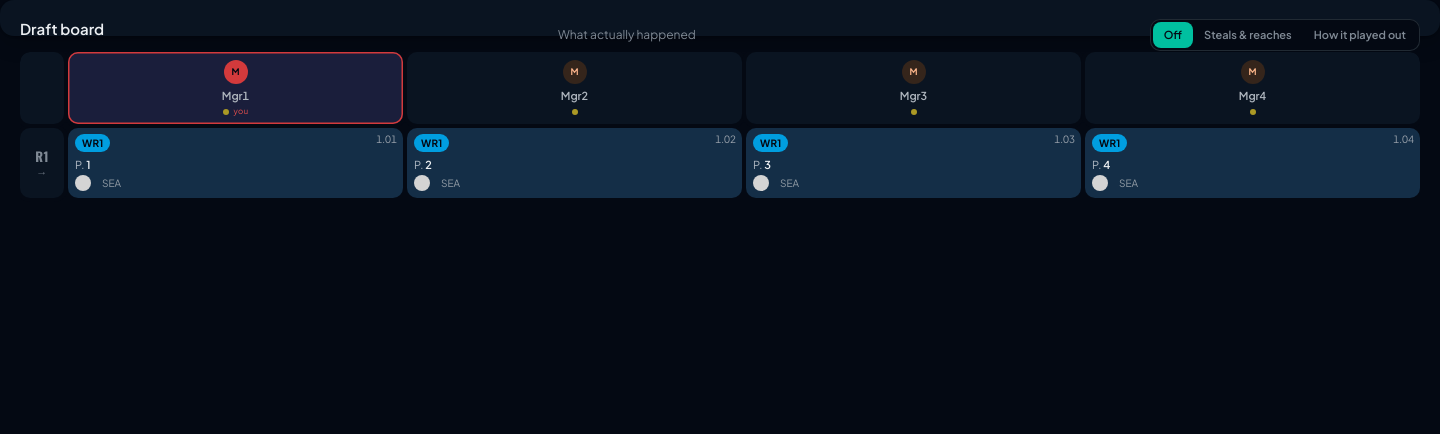
Test: CompletedDraftBoard how it played out › with ADP it is segmented Off / Steals & reaches / How it played out, and the views are exclusive
Expected: the button "Off" is shown, [1153,22,1193,48]
Click the button "Steals & reaches" at point(1248, 35), box [1193,22,1303,48]
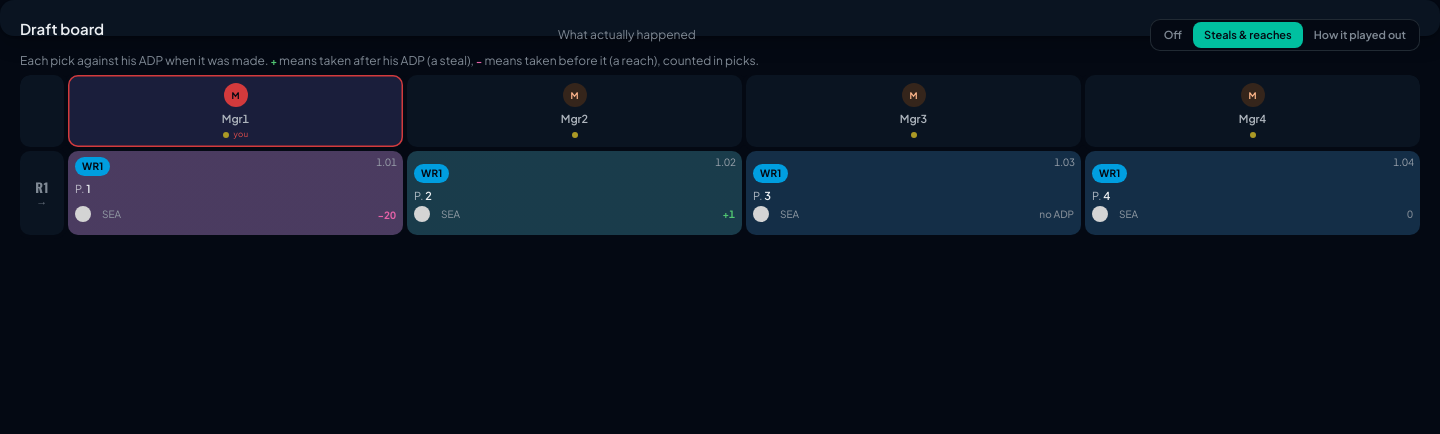
Expected: the element with class "cell" does not show "33.3"
Now the button with class "cell" shows "−20", box [68,151,403,235]
Click the button "How it played out" at point(1360, 35), box [1303,22,1417,48]
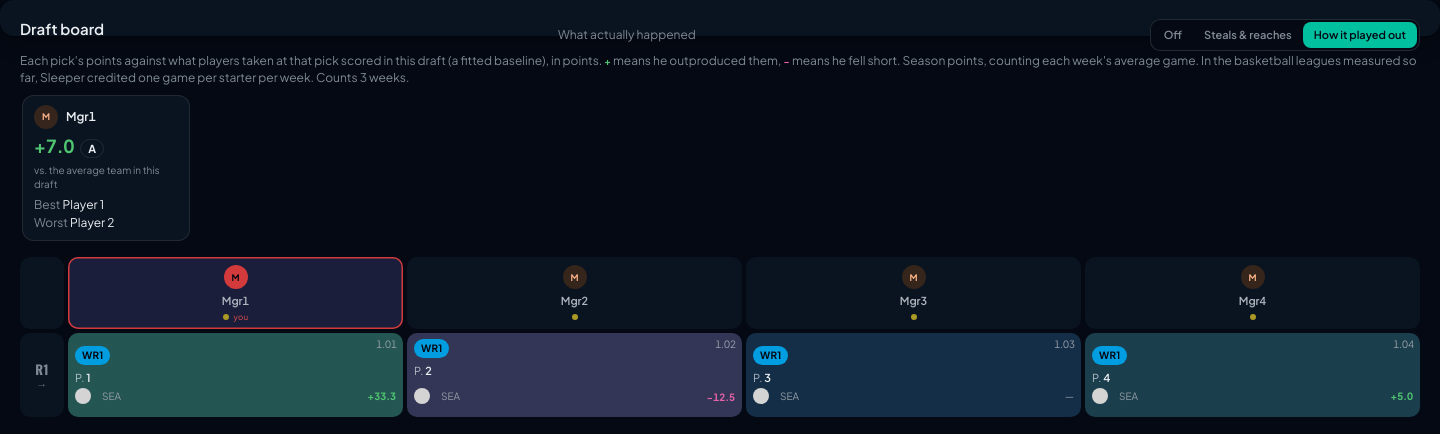
Now the button with class "cell" shows "+33.3", box [68,333,403,417]
Now the text with class "cell" no longer shows "−20"
Now the button with class "cell" shows "−12.5", box [407,333,742,417]
Click the button "Steals & reaches" at point(1248, 35), box [1193,22,1303,48]
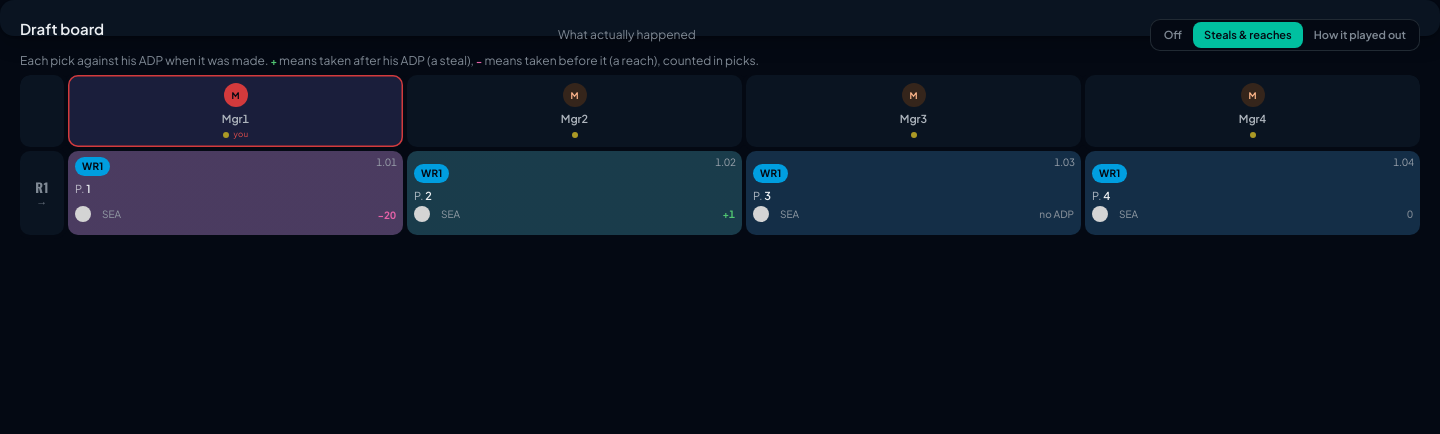
Now the button with class "cell" shows "−20", box [68,151,403,235]
Now the text with class "cell" no longer shows "+33.3"
// Back to played out: kept, not refetched.
Click the button "How it played out" at point(1360, 35), box [1303,22,1417,48]
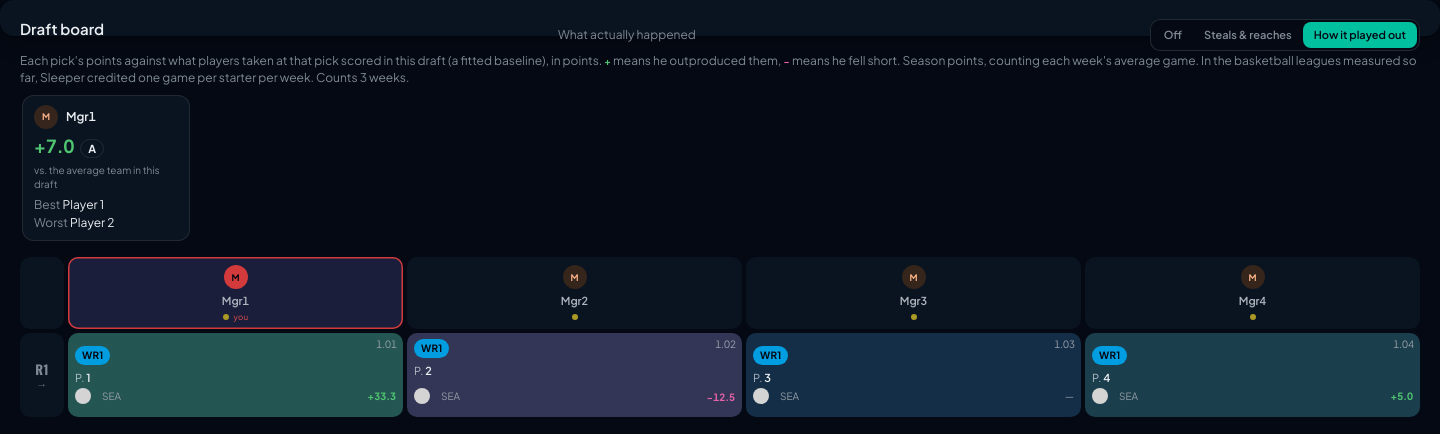
Now the button with class "cell" shows "+33.3", box [68,333,403,417]
